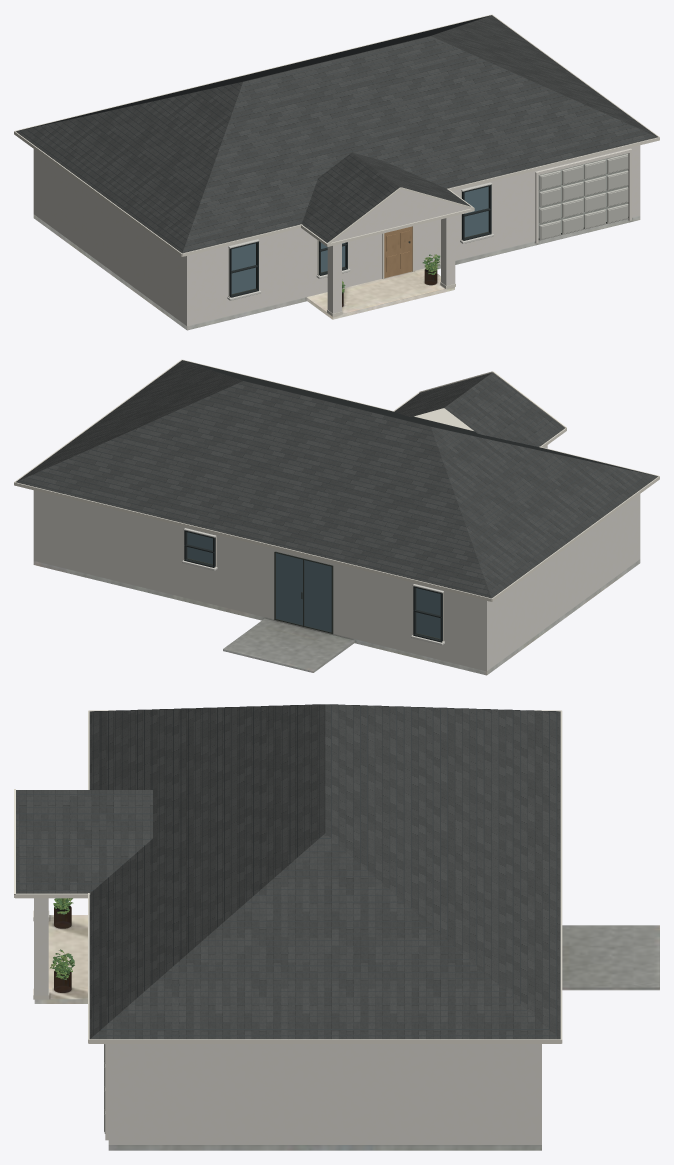
File: bell-exterior-v2.glb
3 renders of one model, top to bottom at view 1: azimuth 30°, elevation 25°; view 2: azimuth 150°, elevation 25°; view 3: azimuth 270°, elevation 25°, orthographic. The views are drawn at different scales.
Parts seen in each view (by area): view 1: Bell / Teja asfáltica antracita · acabado propuesto · 2026 f, Bell / Estuco marfil · acabado propuesto · 2026 finish (×2), Exterior / asphalt shingle edges, Exterior / satin garage panels, Baked interior, Bell / Molduras y carpintería marfil (×2), Bell / Vidrio, Bell / Roble natural · acabado propuesto · 2026 finish, Exterior / graphite window rebates, RPC · Molduras blanco cálido, RPC · Garaje · acero pintado greige, Exterior / limestone sills; view 2: Bell / Teja asfáltica antracita · acabado propuesto · 2026 f, Bell / Estuco marfil · acabado propuesto · 2026 finish, Exterior / asphalt shingle edges, Baked interior, Bell / Vidrio, Bell / Molduras y carpintería marfil, Exterior / graphite window rebates, Bell / Aluminio bronce oscuro; view 3: Bell / Teja asfáltica antracita · acabado propuesto · 2026 f, Bell / Estuco marfil · acabado propuesto · 2026 finish, Exterior / asphalt shingle edges, Baked interior, Bell / Molduras y carpintería marfil.
Boxes of the visible parts, x1,y1,x2,y2 form: Bell / Teja asfáltica antracita · acabado propuesto · 2026 f: (16,15,657,253); Bell / Estuco marfil · acabado propuesto · 2026 finish (×2): (33,145,640,326); Exterior / asphalt shingle edges: (19,15,654,250); Exterior / satin garage panels: (539,154,628,240); Baked interior: (33,214,640,330); Bell / Molduras y carpintería marfil (×2): (14,14,659,316); Bell / Vidrio: (231,186,488,293); Bell / Roble natural · acabado propuesto · 2026 finish: (384,226,412,278); Exterior / graphite window rebates: (229,184,491,297); RPC · Molduras blanco cálido: (535,148,631,243); RPC · Garaje · acero pintado greige: (538,153,627,237); Exterior / limestone sills: (227,182,493,300); Bell / Teja asfáltica antracita · acabado propuesto · 2026 f: (16,360,657,598); Bell / Estuco marfil · acabado propuesto · 2026 finish: (33,445,640,671); Exterior / asphalt shingle edges: (19,360,654,595); Baked interior: (33,559,640,675); Bell / Vidrio: (187,532,440,638); Bell / Molduras y carpintería marfil: (14,359,659,601); Exterior / graphite window rebates: (184,530,442,642); Bell / Aluminio bronce oscuro: (187,532,440,639); Bell / Teja asfáltica antracita · acabado propuesto · 2026 f: (16,704,560,1039); Bell / Estuco marfil · acabado propuesto · 2026 finish: (34,898,541,1144); Exterior / asphalt shingle edges: (16,704,556,1036); Baked interior: (34,906,659,1150); Bell / Molduras y carpintería marfil: (14,710,562,1043).
Bounding box in the file's own units: 16.08 × 5.14 × 13.33.
22 materials, 4 textured.
